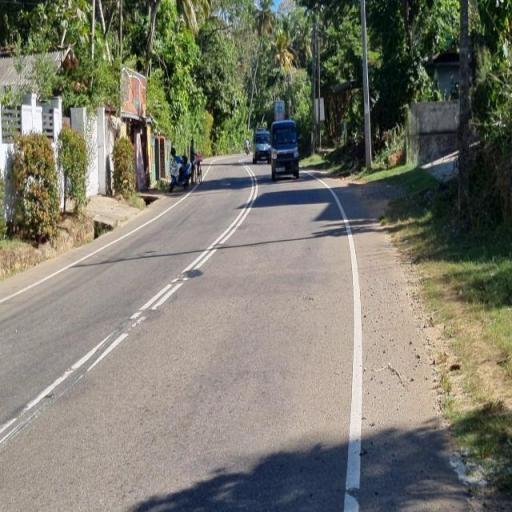double_white_line: (130, 166, 260, 330)
